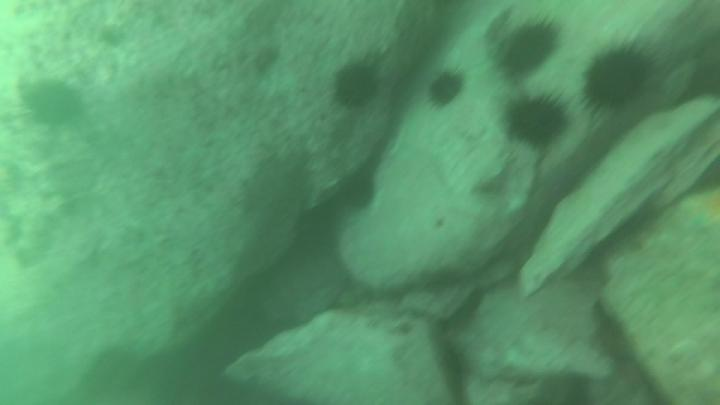echinus: (582, 44, 656, 113), (495, 21, 556, 80), (504, 95, 569, 150), (20, 75, 83, 129), (332, 60, 382, 114), (337, 167, 379, 213), (431, 70, 466, 105)
starfish: (683, 183, 720, 241)
